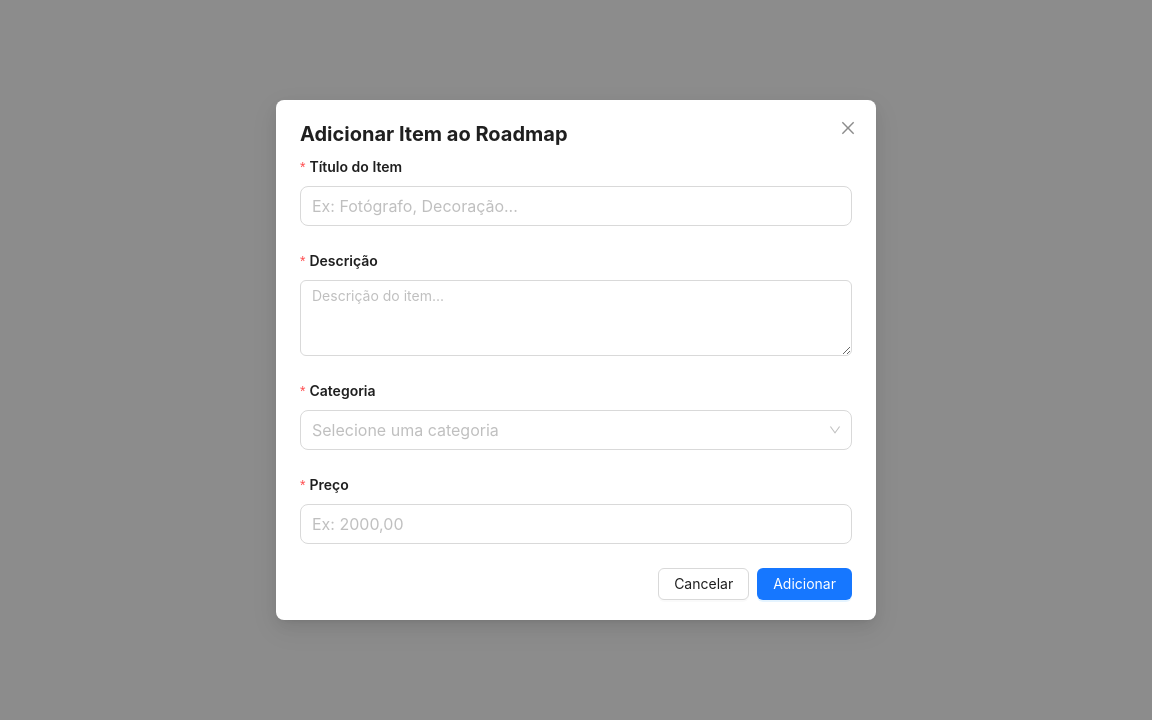
Test: AddItemModal › should validate required fields
Click the button "Adicionar" at (805, 584), box [757, 568, 852, 600]
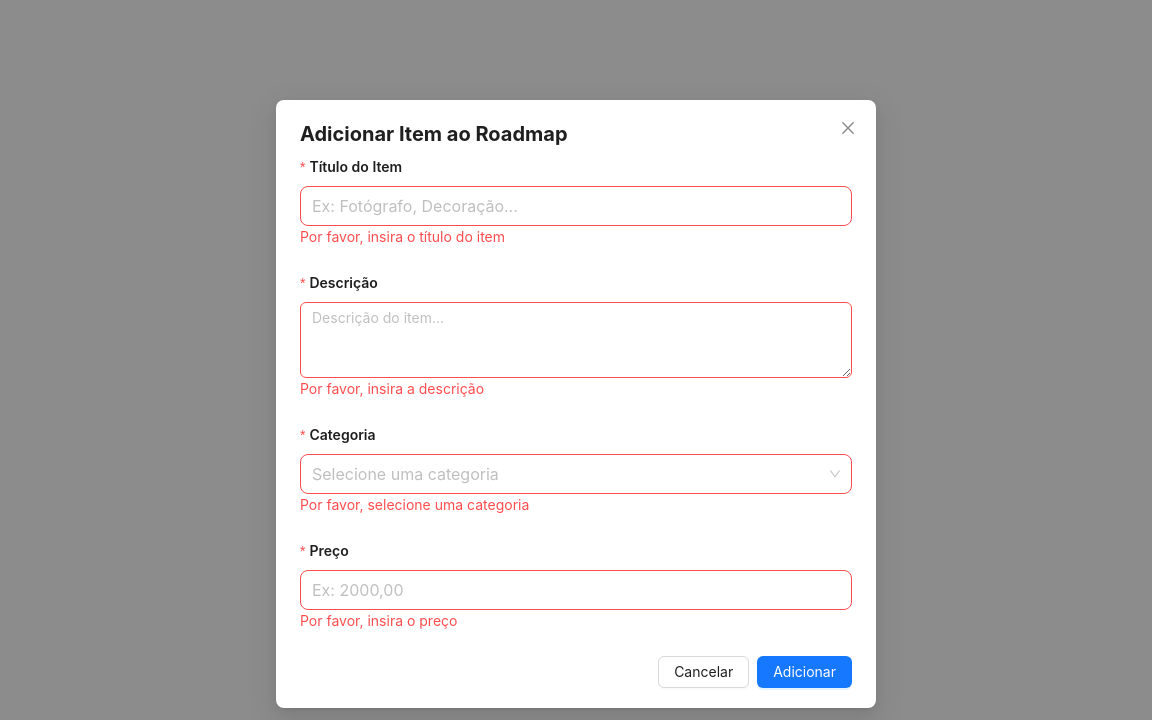
Now the text "Por favor, insira o título do item" is shown, box [300, 228, 505, 245]
Now the text "Por favor, insira a descrição" is shown, box [300, 380, 484, 397]
Now the text "Por favor, selecione uma categoria" is shown, box [300, 496, 529, 513]
